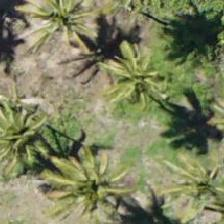coconut_tree: (93, 33, 183, 123), (46, 141, 136, 223), (11, 0, 101, 68), (0, 92, 66, 182), (159, 142, 223, 223)
